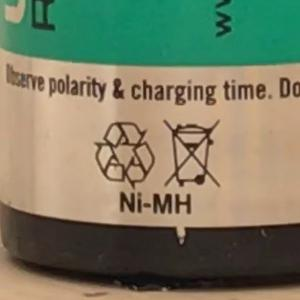keyword: (110, 184, 201, 223)
